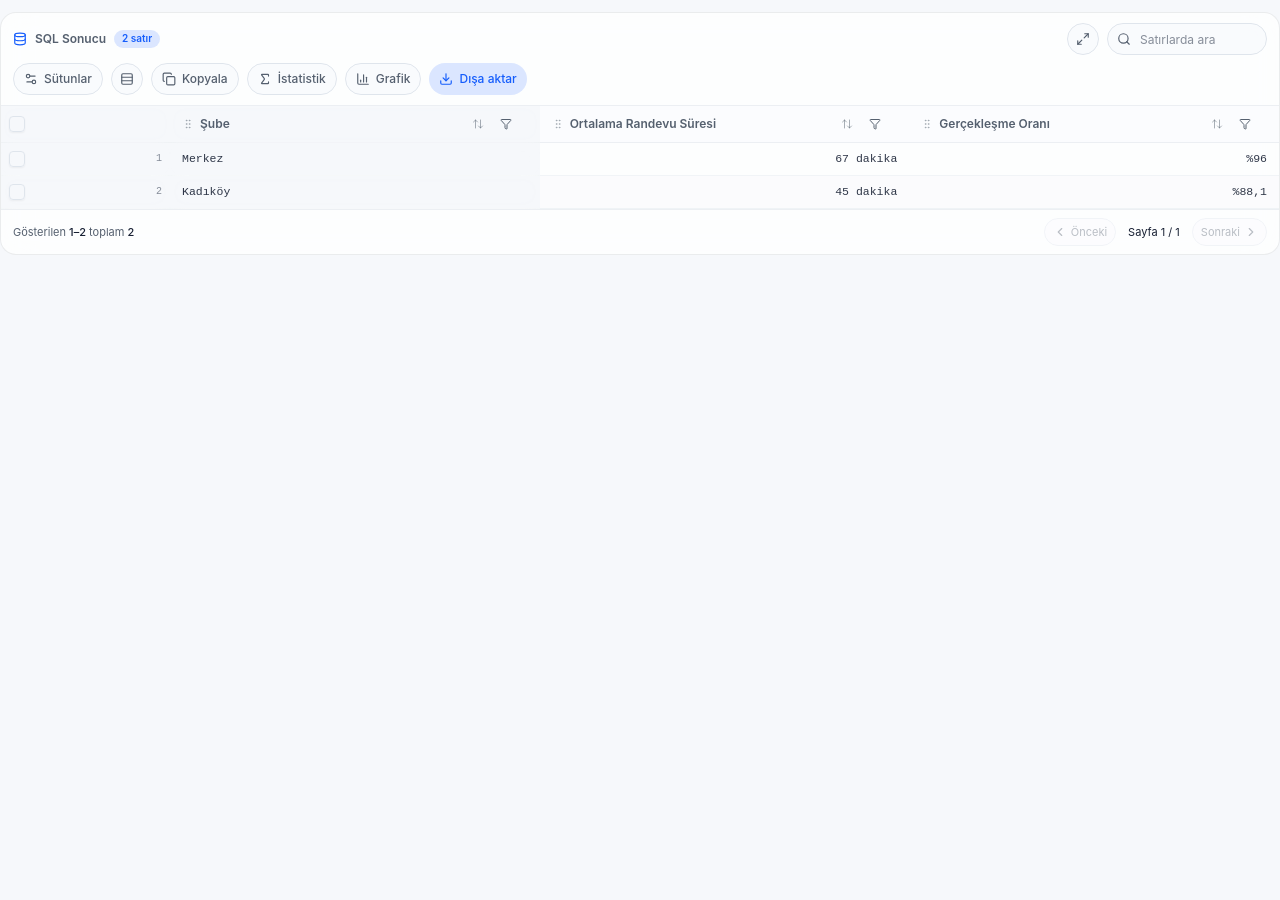
Scenario: SqlResultsTable — sütun etiketleri (AI-INTELLIGENCE-013) › filtre başlığı Türkçe etiketi kullanır ama ham sütuna filtre uygular
Click the button named "Şube sütununu filtrele" at (506, 124), box x1=496 y1=114 x2=516 y2=134
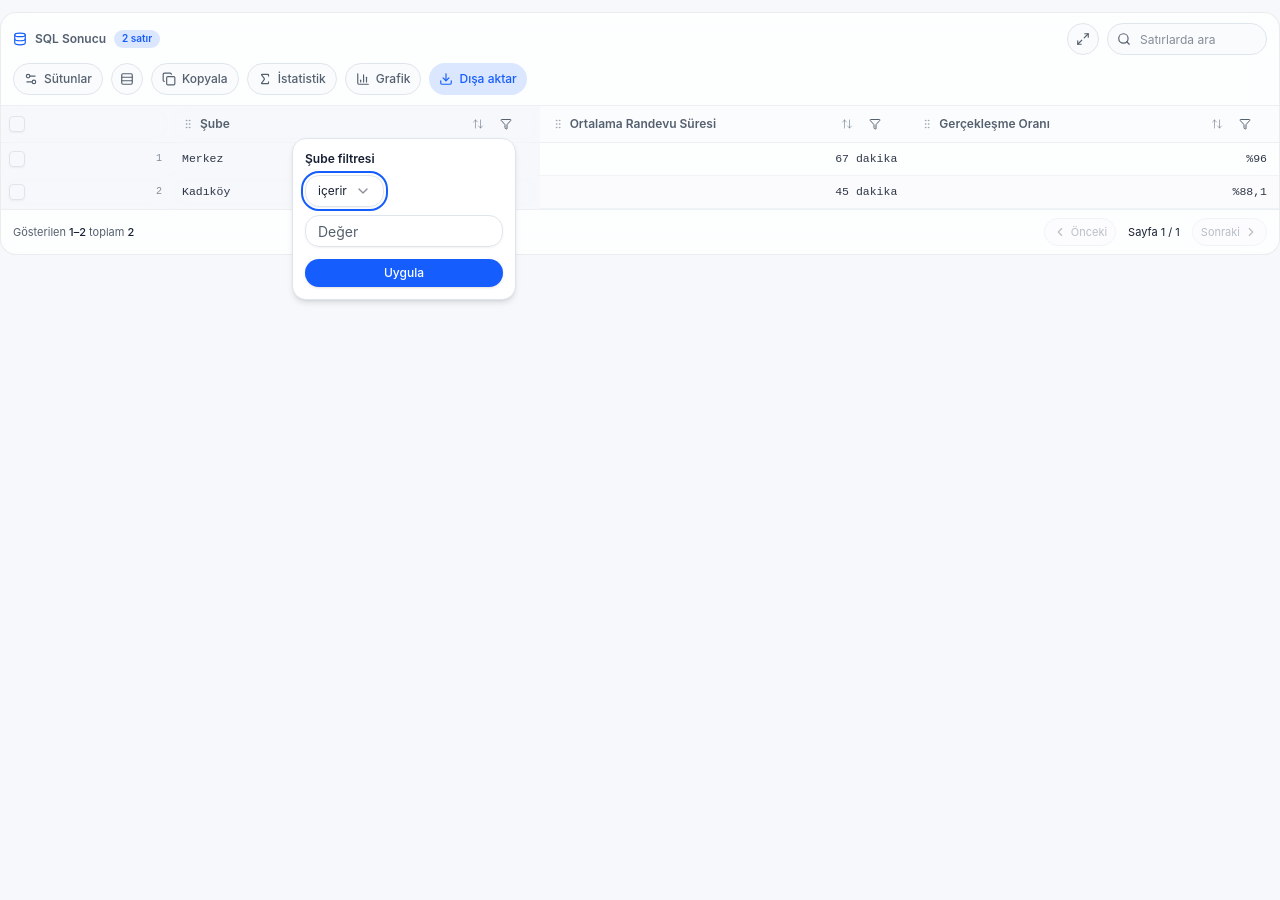
Check: the text "Şube filtresi" is shown, box x1=305 y1=151 x2=374 y2=166
